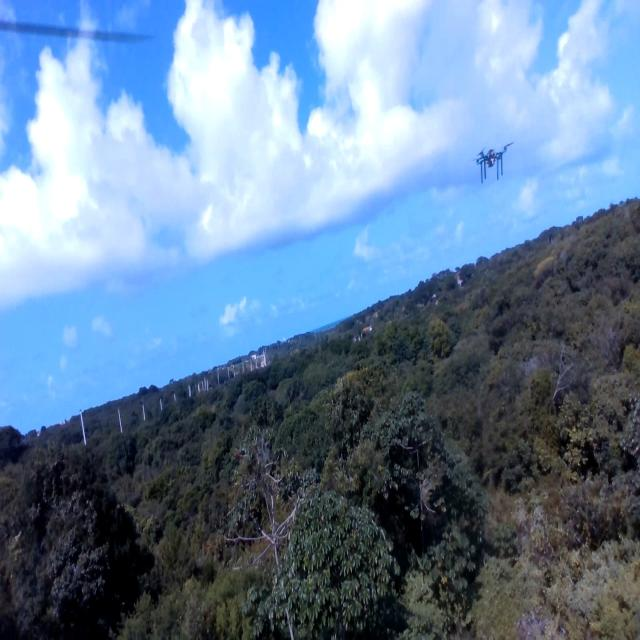-uav-: (467, 129, 518, 193)
